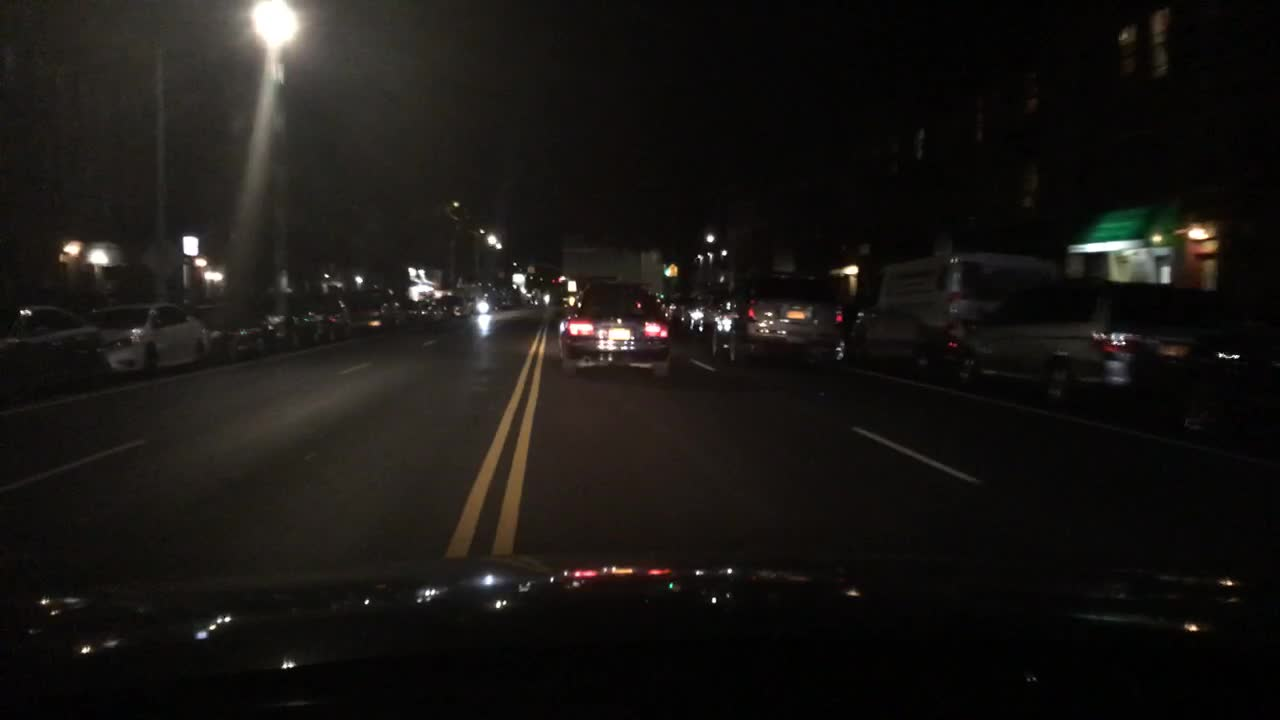car: (953, 273, 1231, 402), (850, 252, 1058, 364), (706, 272, 852, 364), (1167, 316, 1277, 436), (557, 281, 676, 384), (0, 304, 108, 396), (88, 303, 211, 371), (192, 306, 281, 356), (263, 293, 319, 342), (353, 286, 404, 329), (318, 293, 361, 336), (686, 290, 722, 335), (667, 290, 690, 327), (419, 298, 453, 321), (394, 296, 425, 321), (459, 287, 489, 312), (440, 293, 469, 315), (485, 284, 508, 307), (502, 287, 526, 306), (526, 287, 544, 307)
traffic sign: (140, 240, 186, 272), (667, 261, 681, 275)
